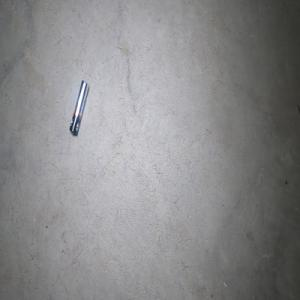Battery: (69, 79, 89, 136)
